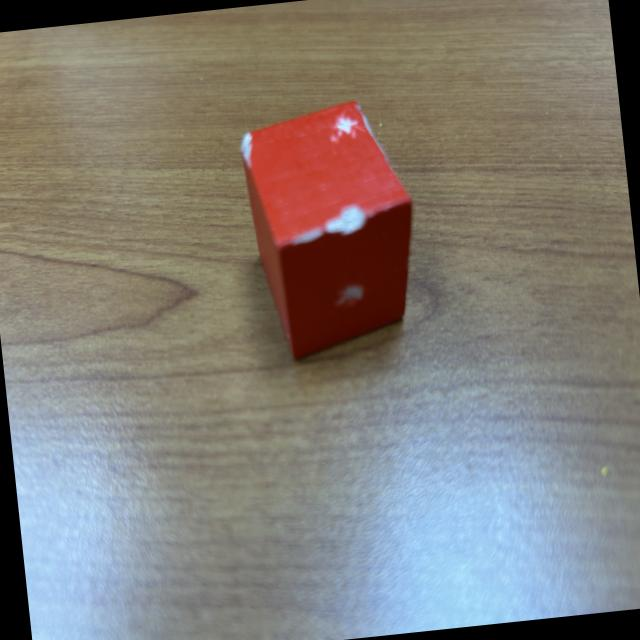broken: (236, 94, 429, 363)
